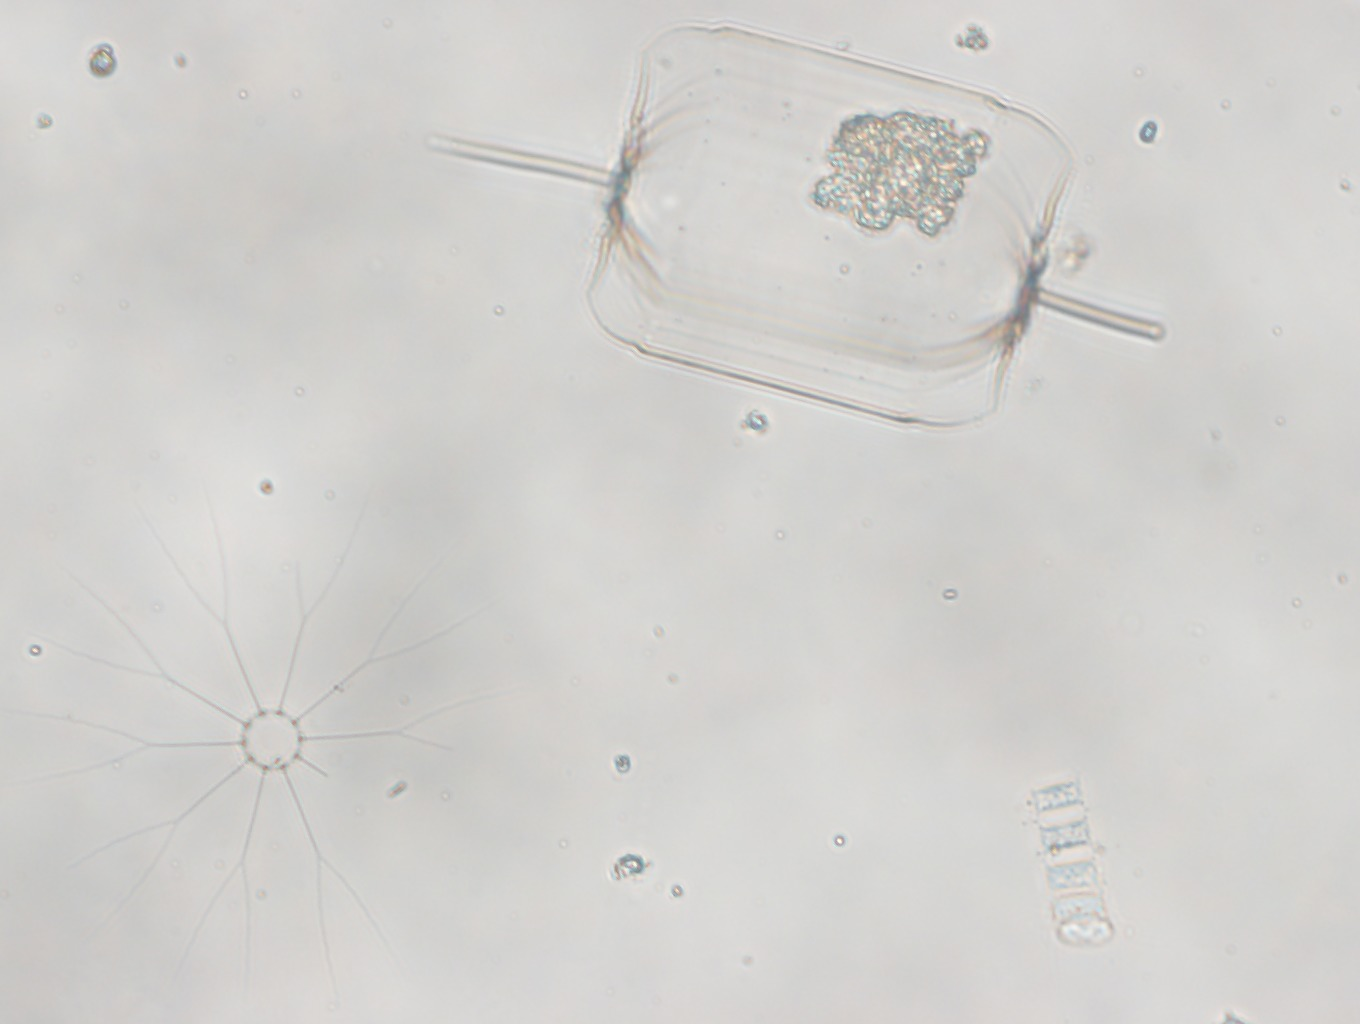bacteriastrum: (17, 489, 525, 987)
chaetoceros: (1030, 759, 1119, 951)
ditylum: (424, 22, 1166, 431)
